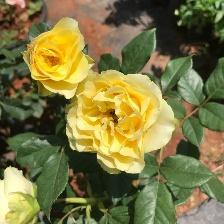rose: (65, 69, 179, 176)
sunflower: (25, 17, 97, 101), (1, 164, 42, 224)
